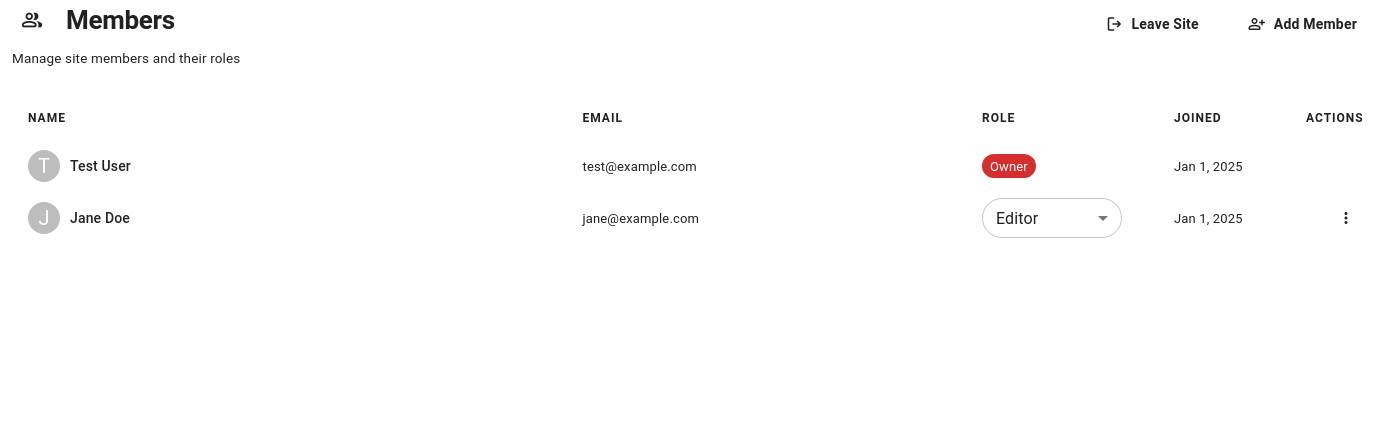
Test: MembersPage › role dropdown permissions › hides Admin and Owner roles from non-owner admin in inline dropdown
Expected: the text "Jane Doe" is shown, left=70, top=208, right=130, bottom=229
Step 1. Click the dropdown → (1017, 218), box left=996, top=209, right=1038, bottom=228
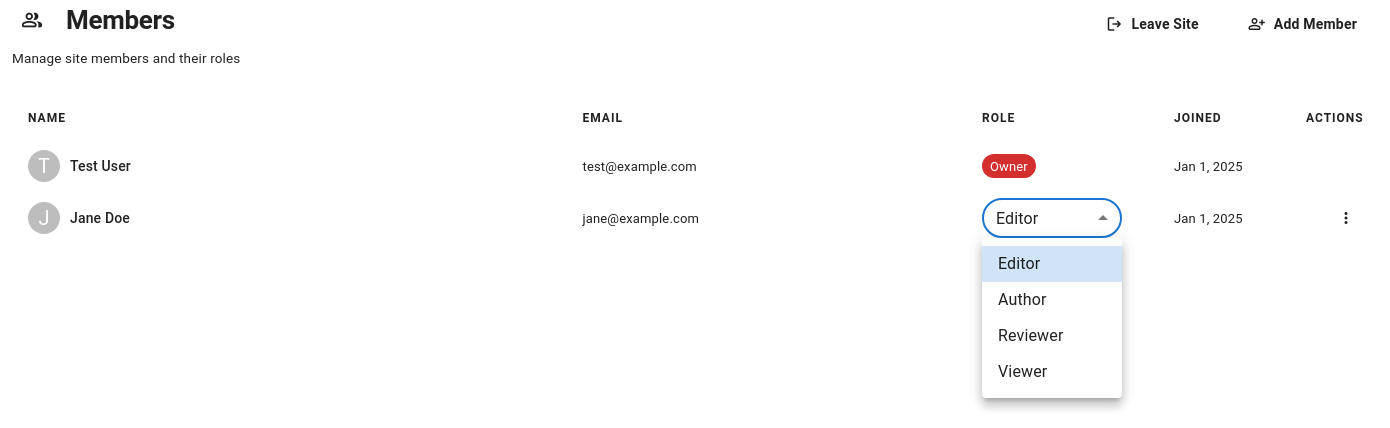
Expected: the option "Editor" is shown, left=982, top=246, right=1122, bottom=282
